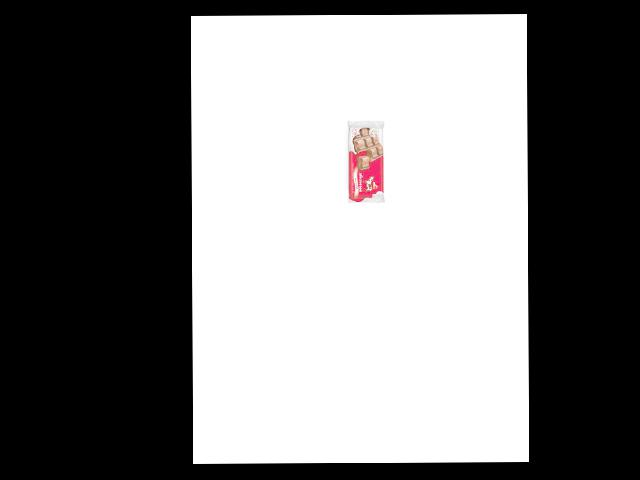chocolate: (347, 118, 385, 204)
